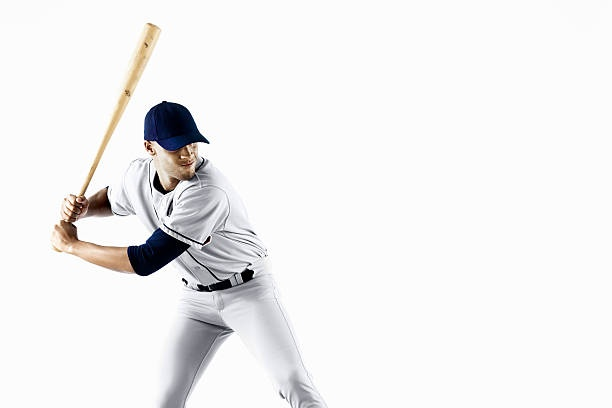bita: (69, 22, 160, 223)
